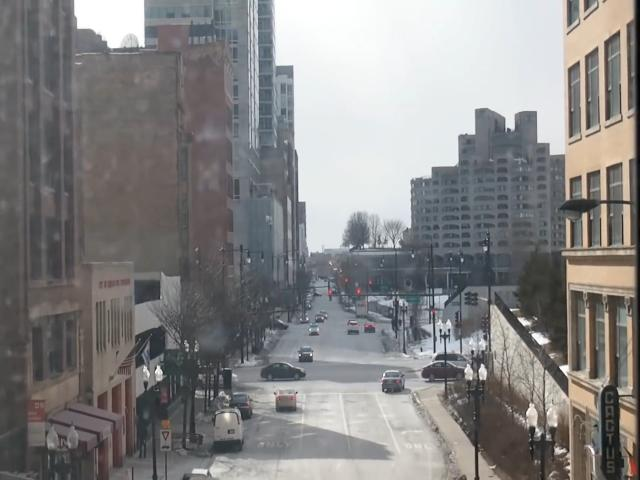signal light: (328, 290, 334, 304), (433, 308, 437, 326), (358, 287, 363, 300), (346, 277, 351, 289), (370, 281, 374, 291)
